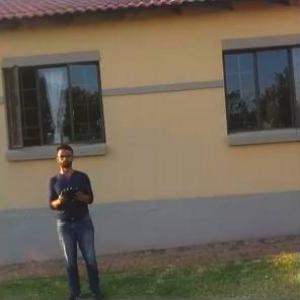follow: (44, 134, 112, 299)
